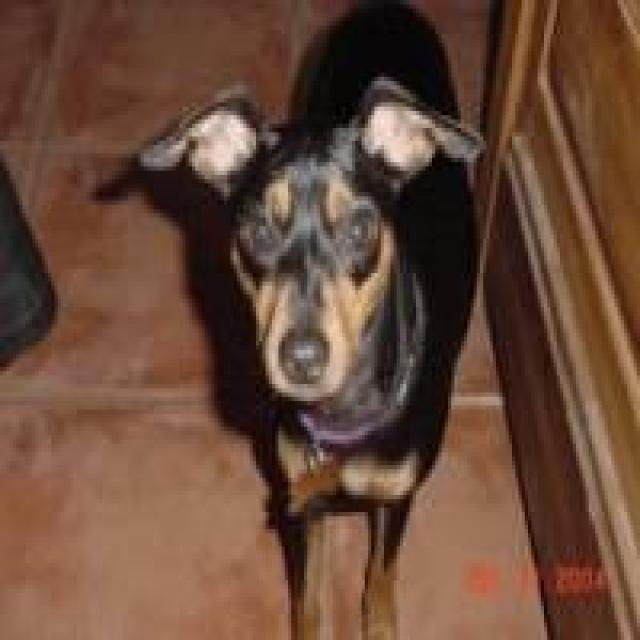dog-miniature_pinscher: (128, 4, 502, 631)
